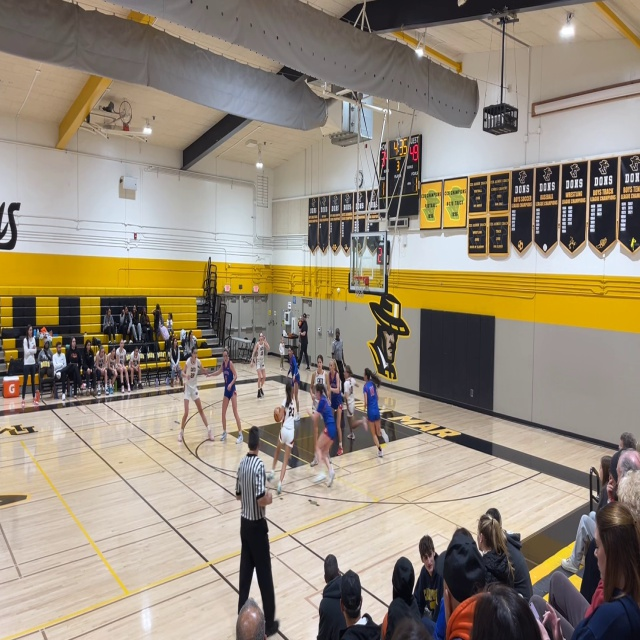Basketball: (273, 406, 285, 423)
